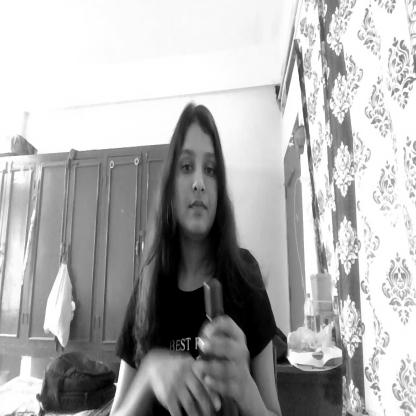Normal: (166, 105, 228, 248)
